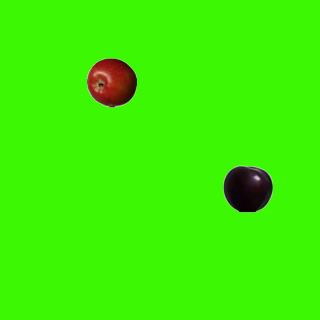Apple Braeburn: (86, 57, 136, 107)
Cherry Wax Black: (222, 163, 272, 213)
